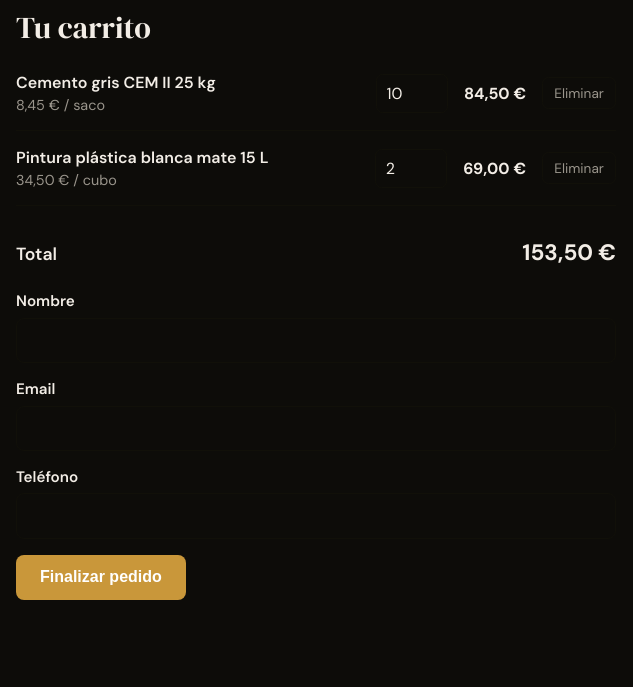
Cart › blocks checkout and shows errors when customer fields are empty
Click the button "Finalizar pedido".
click(101, 577)  # box [16,555,186,600]
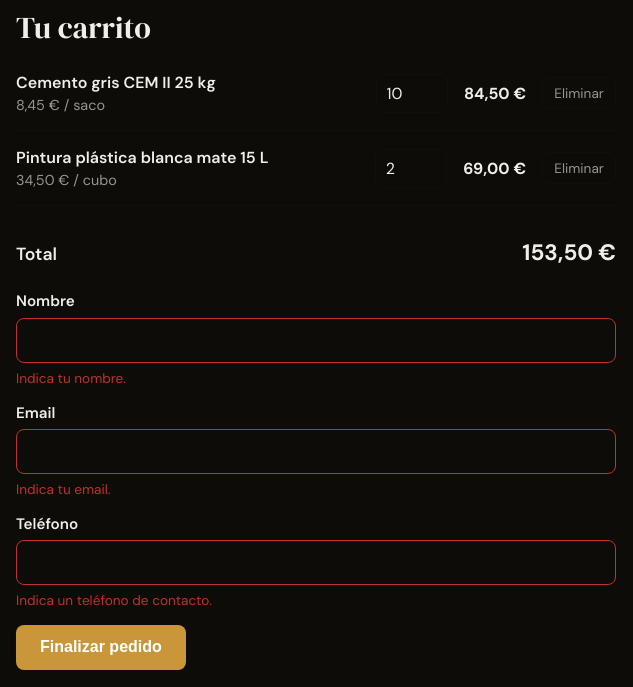
Check: the text "Indica tu nombre." is shown, box [16,370,126,386]
Check: the text "Indica tu email." is shown, box [16,481,110,498]
Check: the text "Indica un teléfono de contacto." is shown, box [16,592,212,609]
